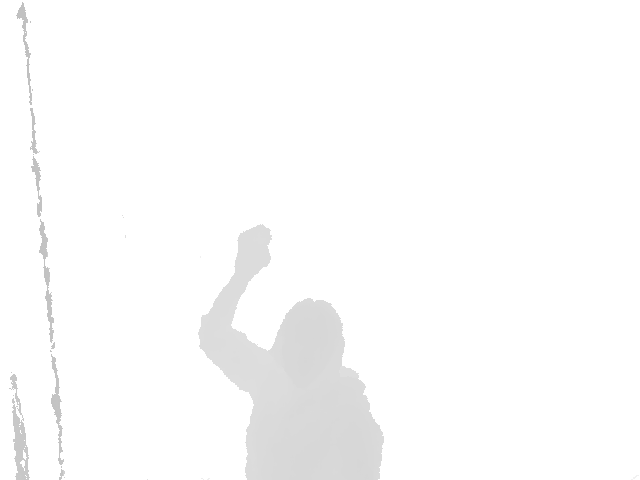hand: (233, 224, 273, 286)
head: (269, 298, 346, 391)
person: (198, 224, 386, 480)
